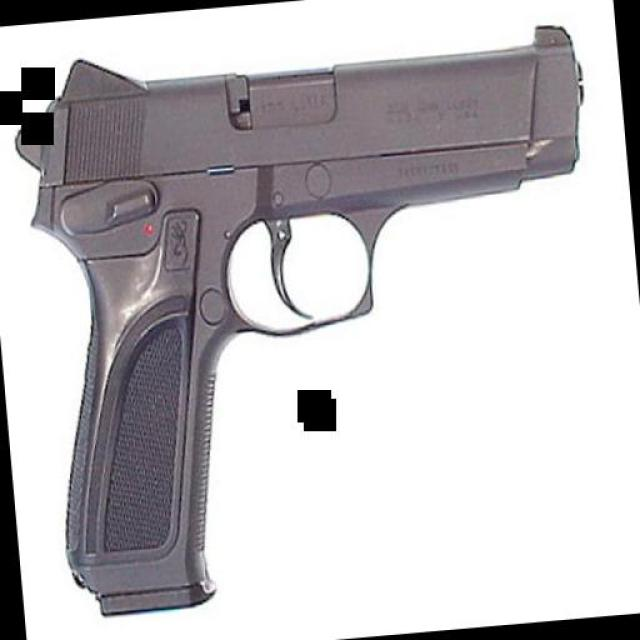gun: (6, 14, 626, 621)
